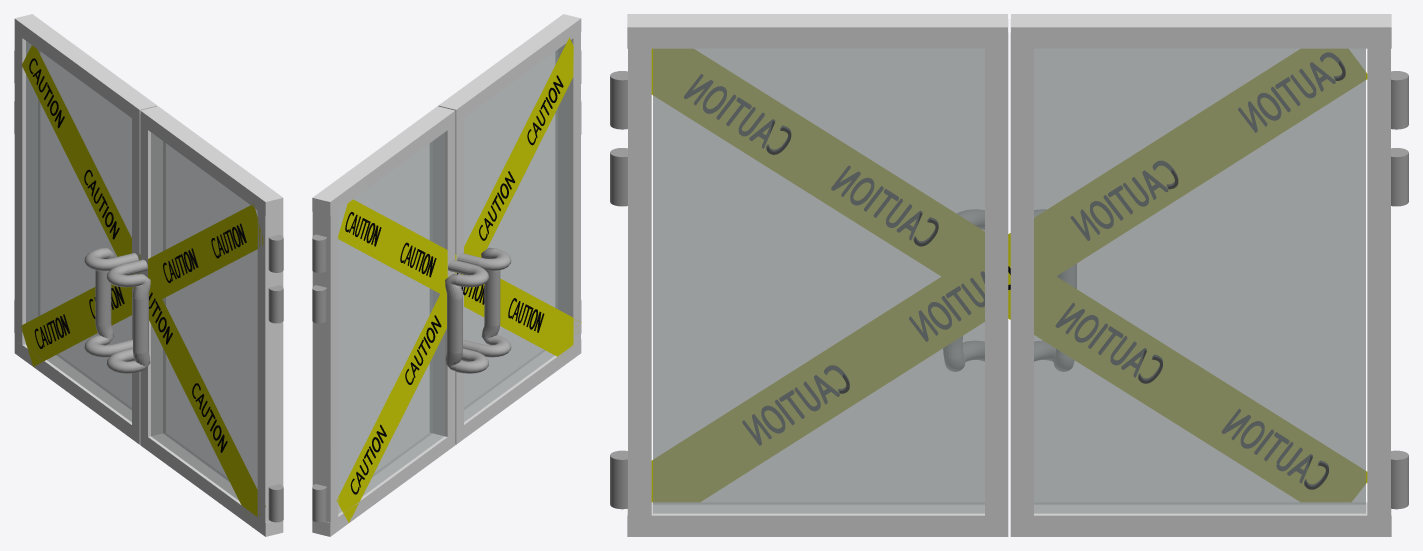
The model's file is CautionDoor.fbx.
3 renders of one model, left to right at view 1: azimuth 30°, elevation 25°; view 2: azimuth 150°, elevation 25°; view 3: azimuth 270°, elevation 25°, orthographic. The views are drawn at different scales.
Visible parts, largest first — view 1: CautionDoor1; view 2: CautionDoor1; view 3: CautionDoor1.
Boxes of the visible parts, <box> form: CautionDoor1: <box>14,14,283,536</box>; CautionDoor1: <box>312,14,581,536</box>; CautionDoor1: <box>610,14,1408,536</box>.
Bounding box in the file's own units: 1.24 × 6.58 × 9.34.
